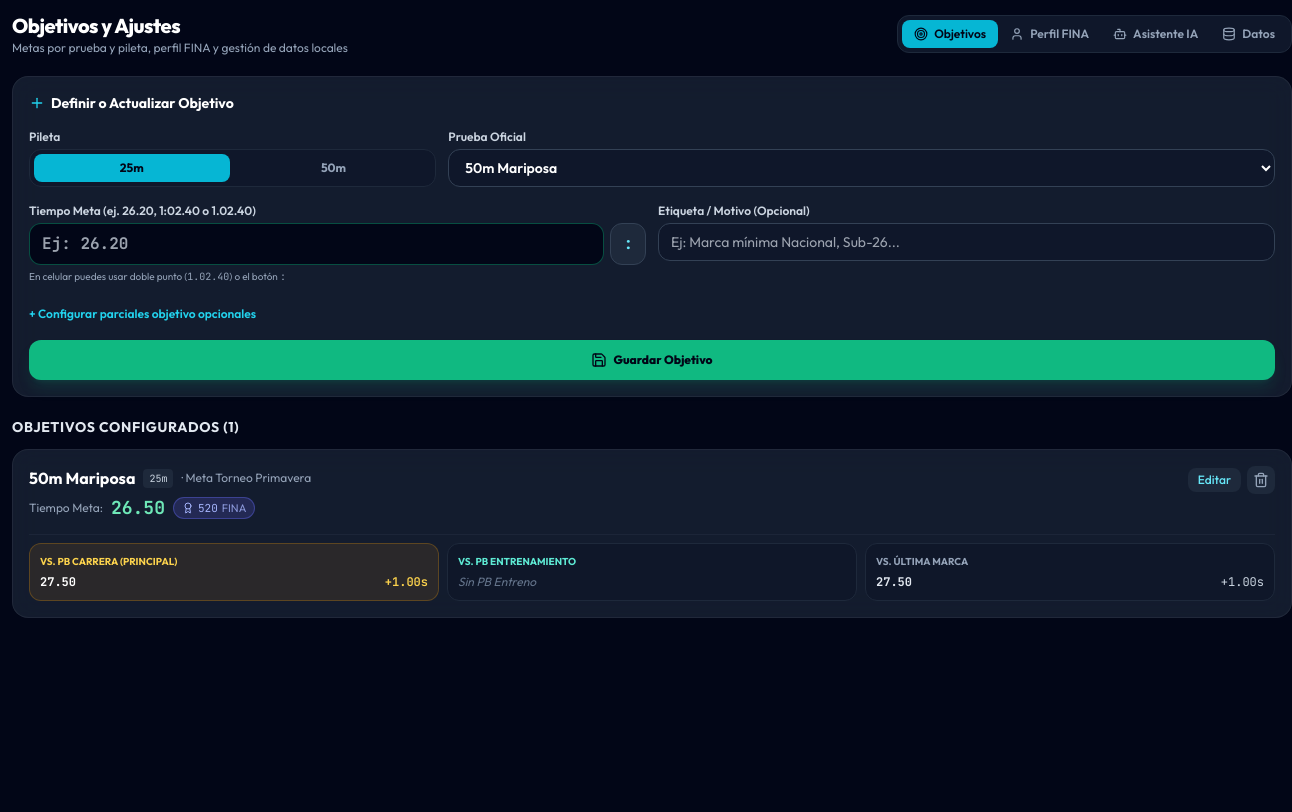
GoalsAndSettingsView Component & Flujos de Ajustes › permite navegar al subTab de Asistente IA y guardar ajustes
Click the button "Asistente IA". click: (1156, 34)
box: [1101, 20, 1210, 48]
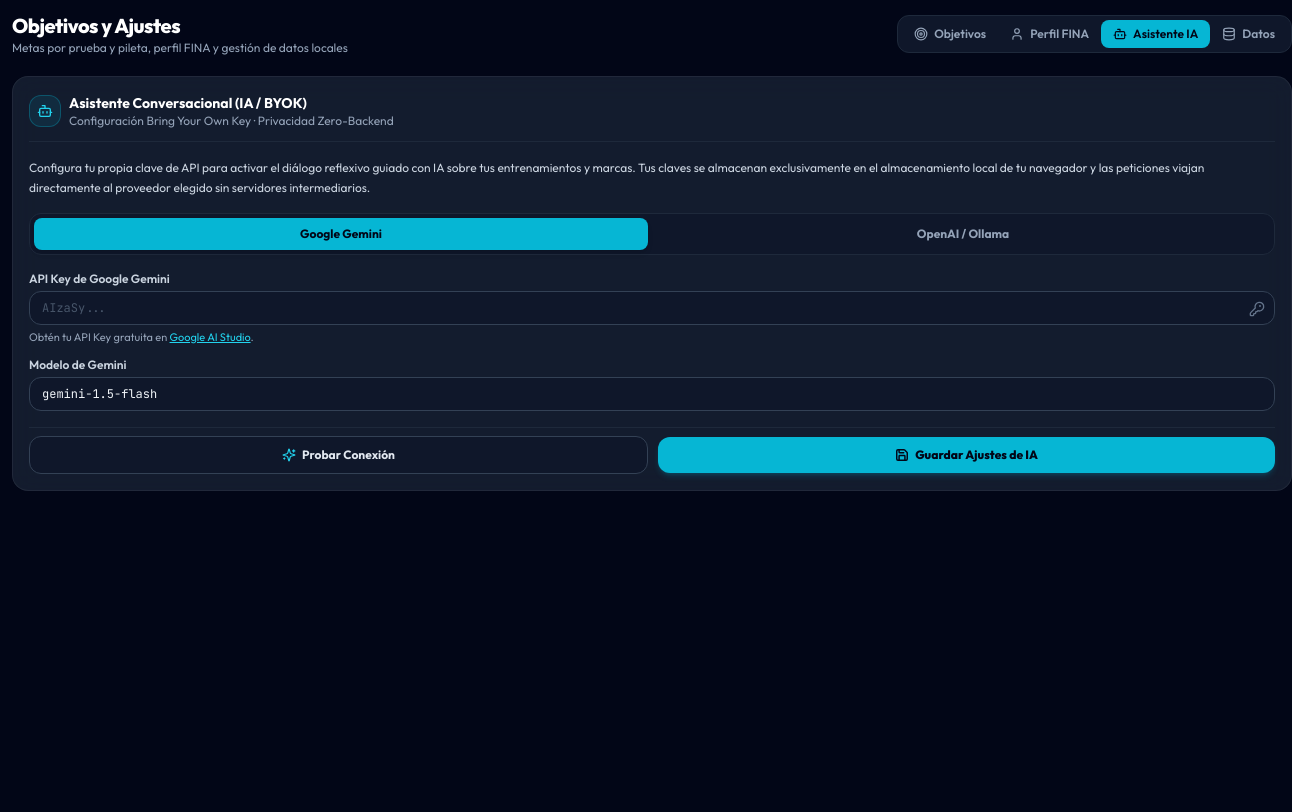
Check: the heading "Asistente Conversacional (IA / BYOK)" is shown, box [69, 94, 307, 112]
Check: the button "Google Gemini" is shown, box [34, 218, 648, 250]
Check: the button "OpenAI / Ollama" is shown, box [656, 218, 1270, 250]
Click the button "Guardar Ajustes de IA". click: (966, 455)
box: [658, 437, 1275, 473]
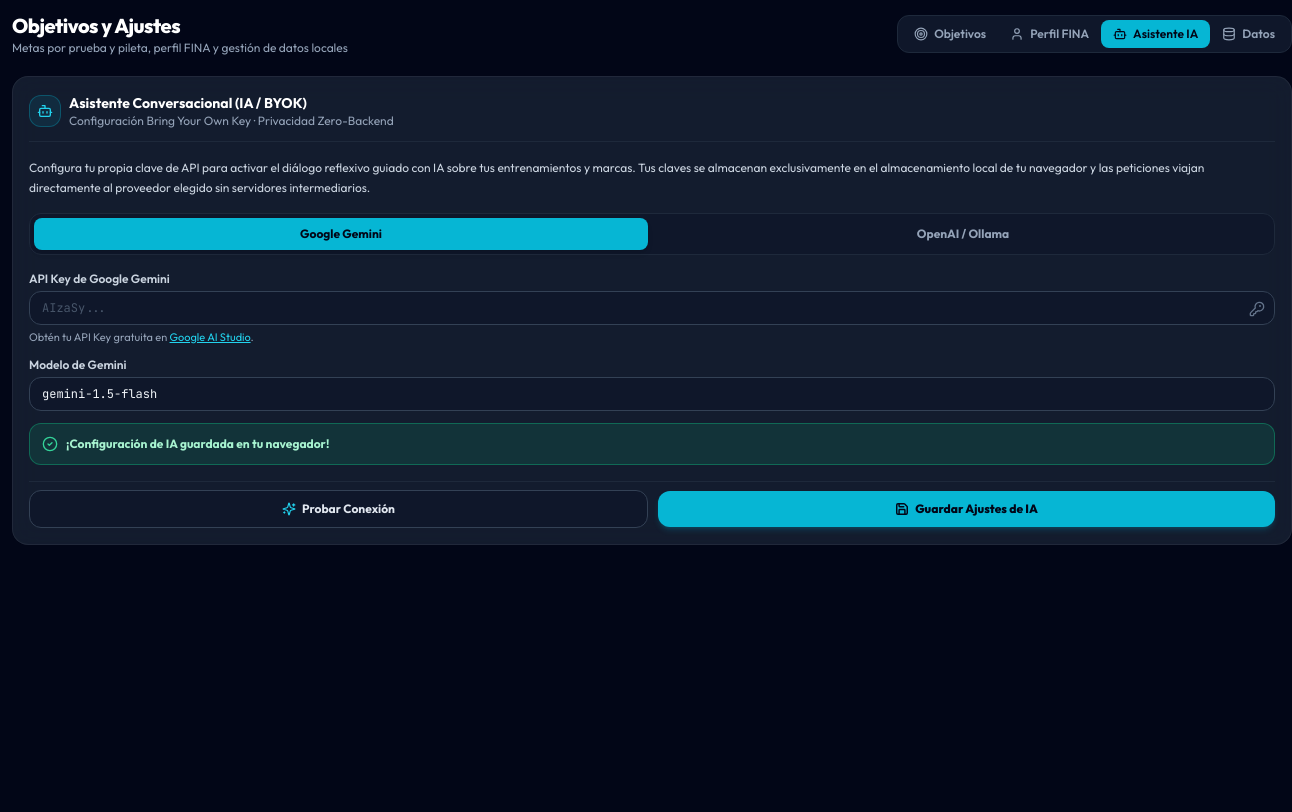
Check: the text "¡Configuración de IA guardada en tu navegador!" is shown, box [66, 436, 329, 452]
